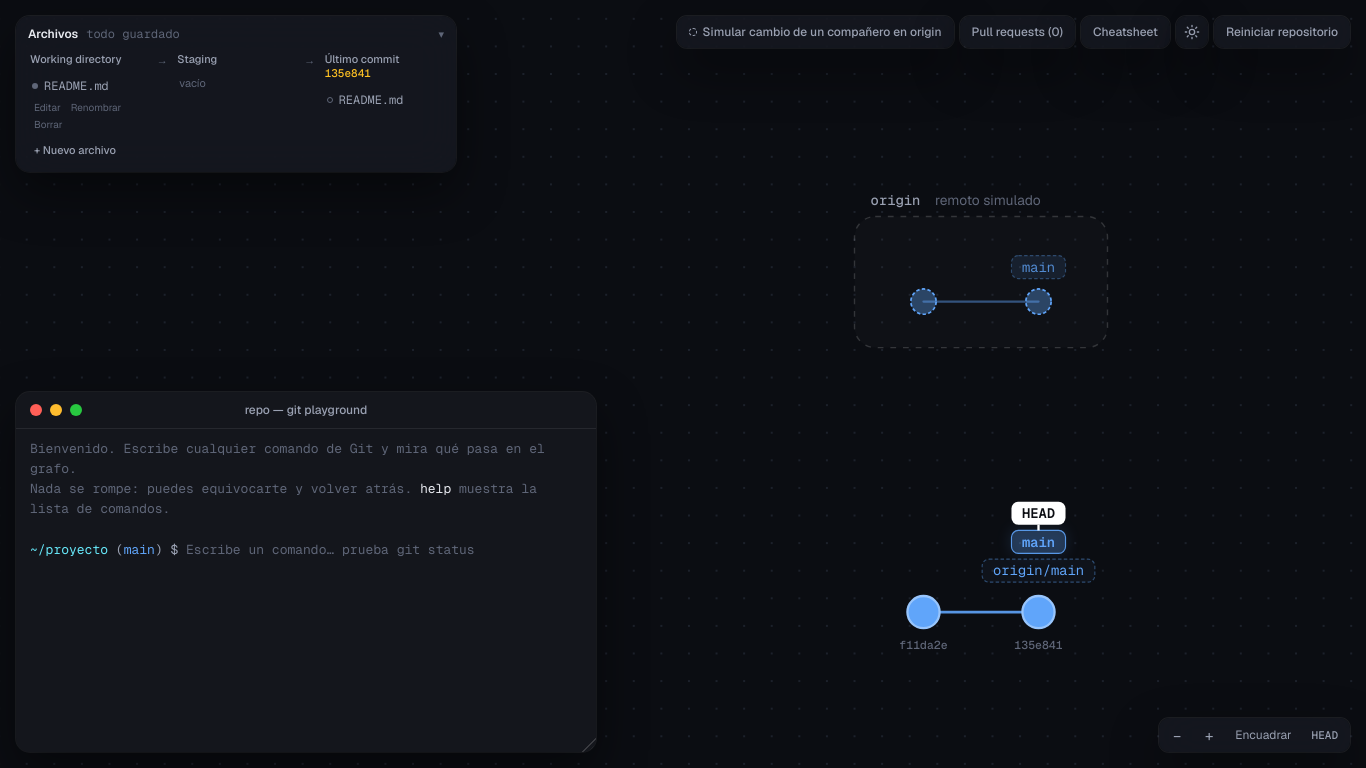
Test: PlaygroundShell cheatsheet panel › "Usar" inserts the command into the terminal input without running it and focuses it
Click the button "Cheatsheet" at (1125,32), box [1081, 16, 1170, 48]
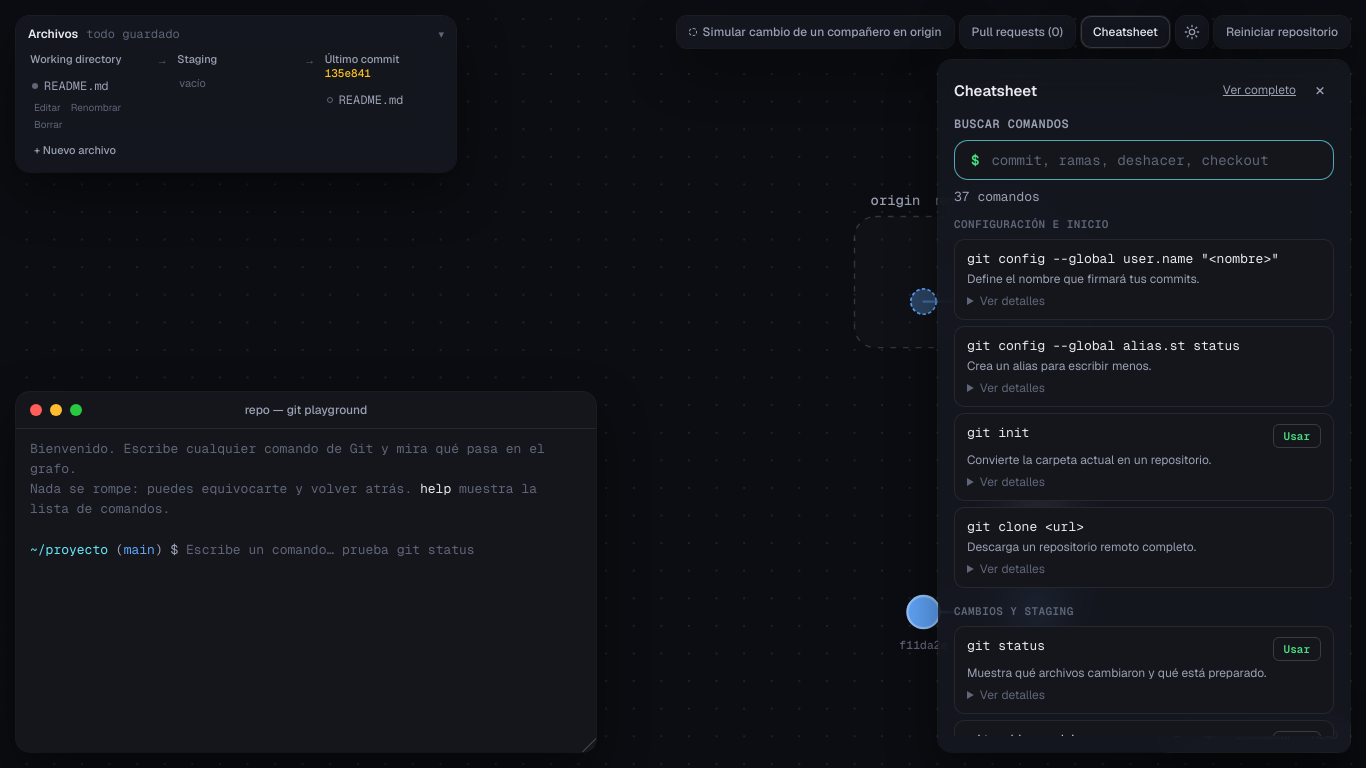
Type "switch -c" into the search field at (1140,160), box [983, 141, 1296, 179]
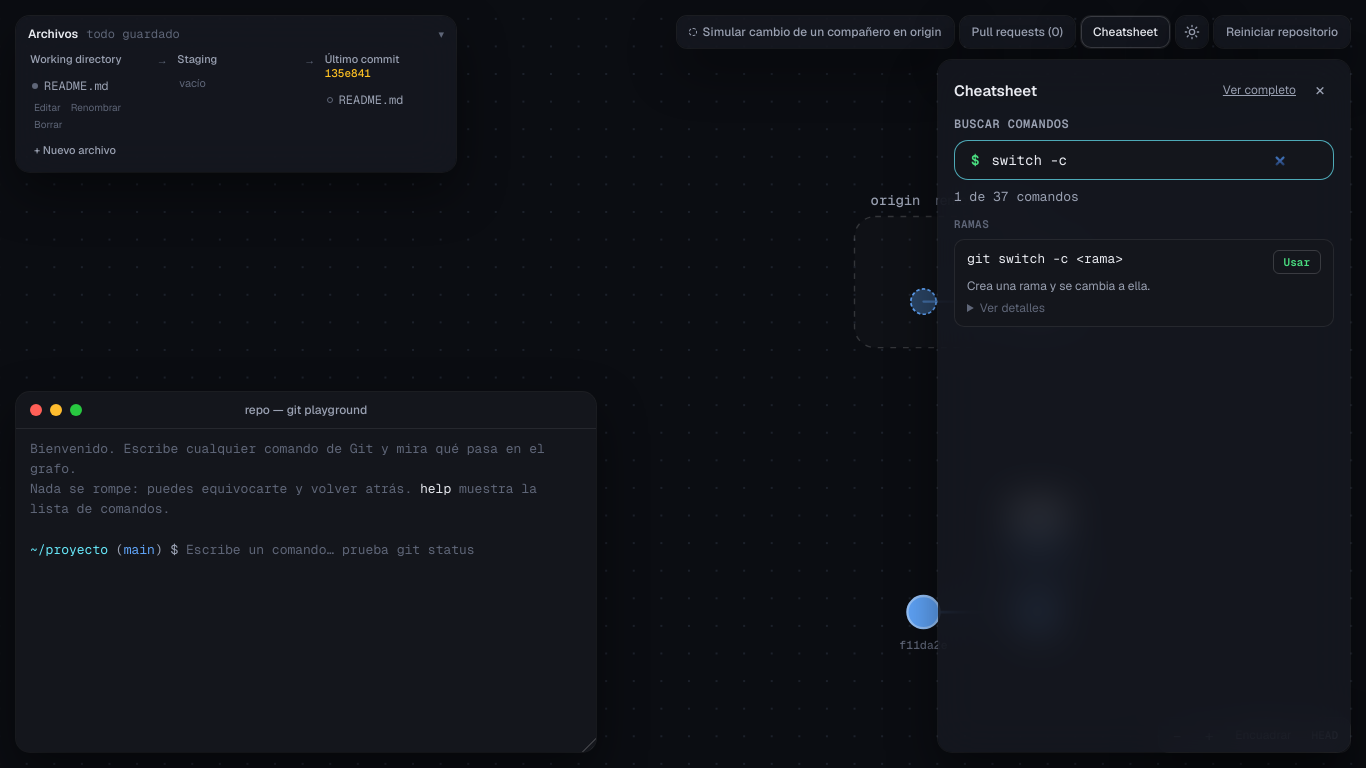
Click the button with aria-label "Usar git switch -c <rama>" at (1297,262), box [1273, 250, 1321, 274]
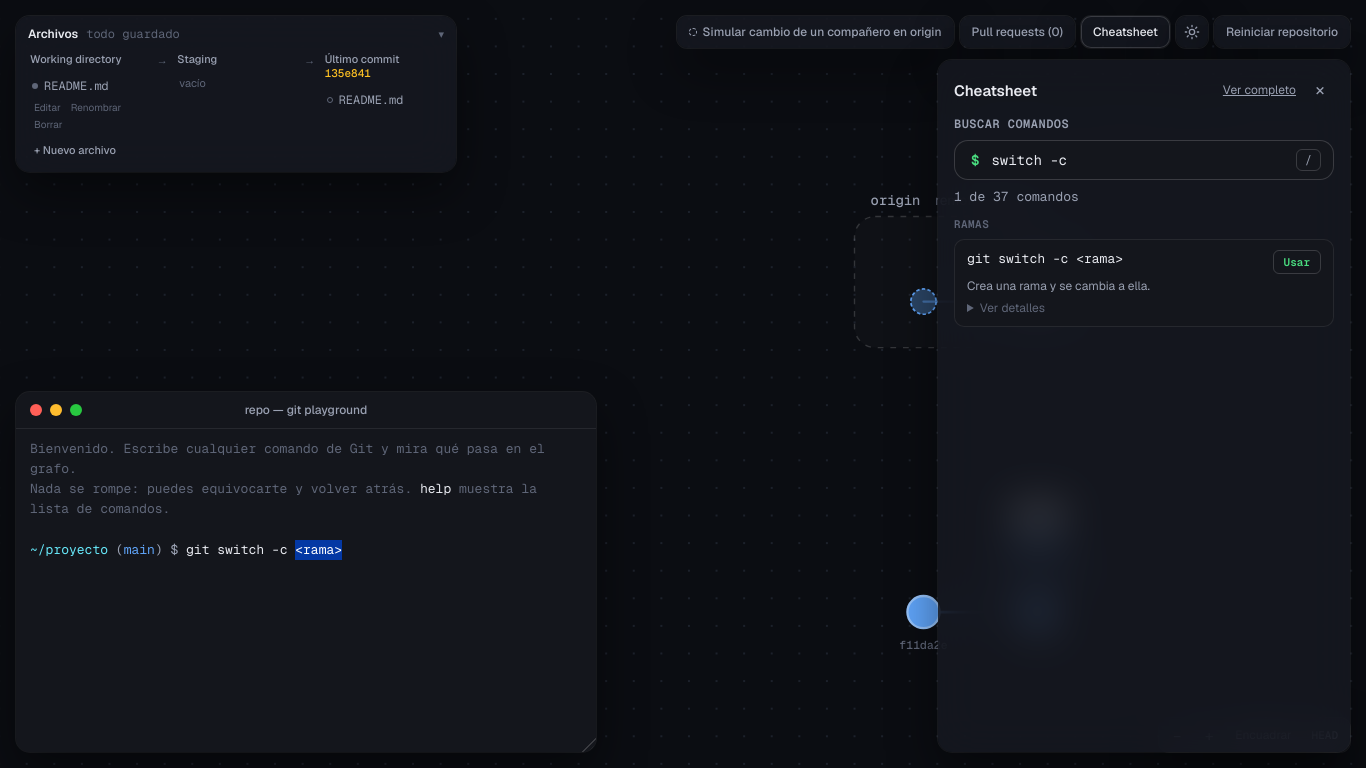
Expected: the field named "comando" holds "git switch -c <rama>", [186, 540, 582, 560]
